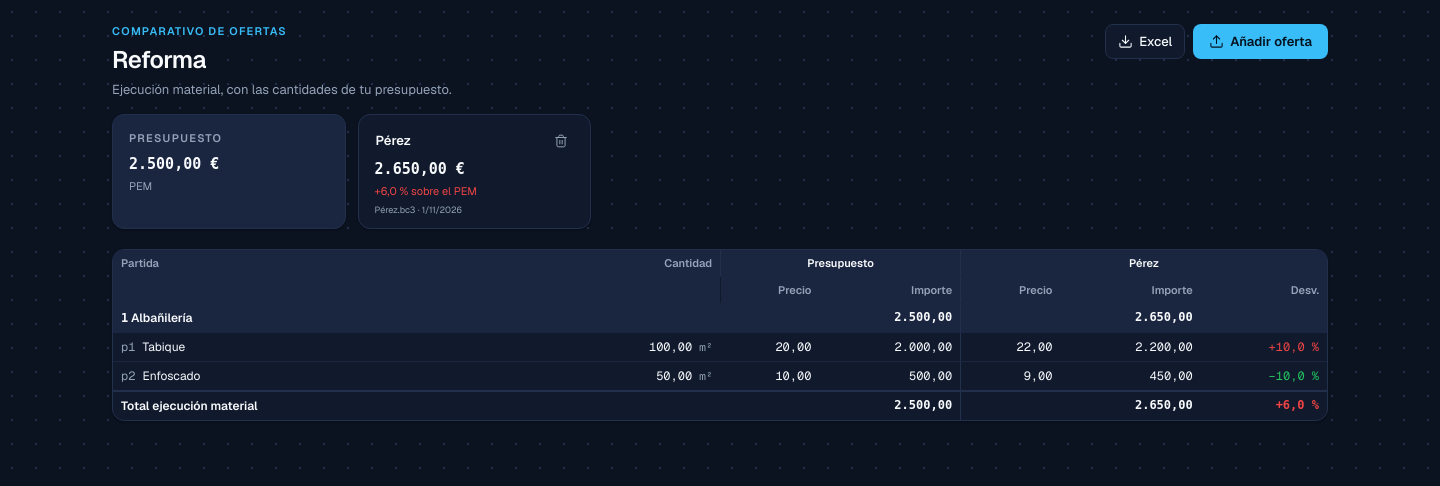
it: OfertasView › renombrar y quitar una oferta (con Deshacer)
Later steps or results of the test are not shown.
Replace the text in the field named "Nombre de la constructora" with "Pérez S.L." at (455, 140), box [369,127,542,154]
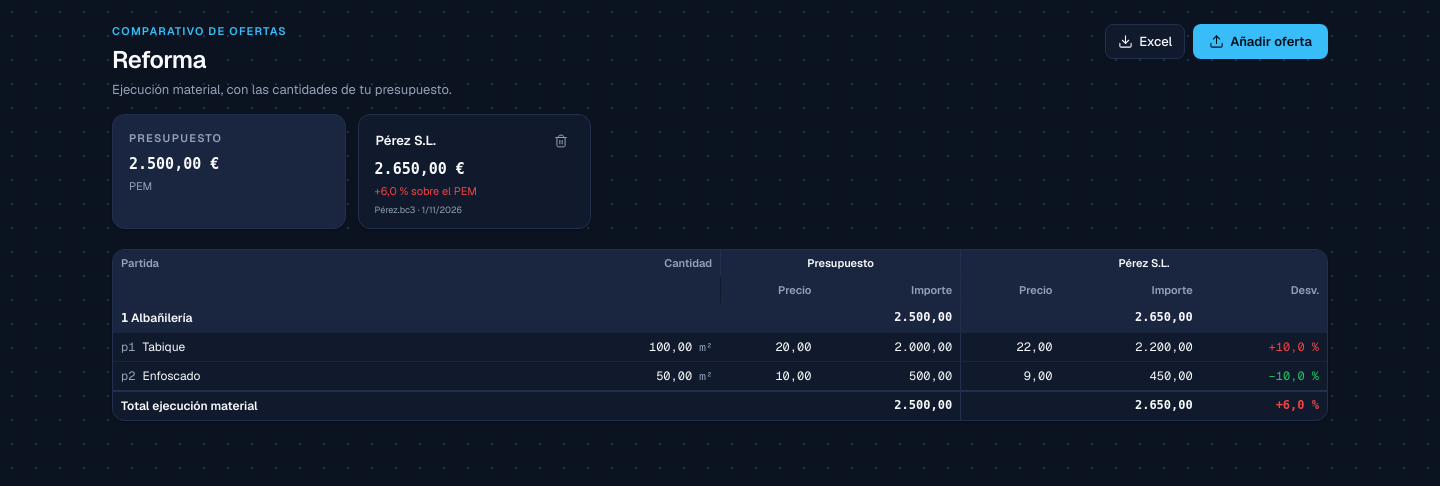
Expected: the column heading "Pérez S.L." is shown, [961,250,1327,276]
